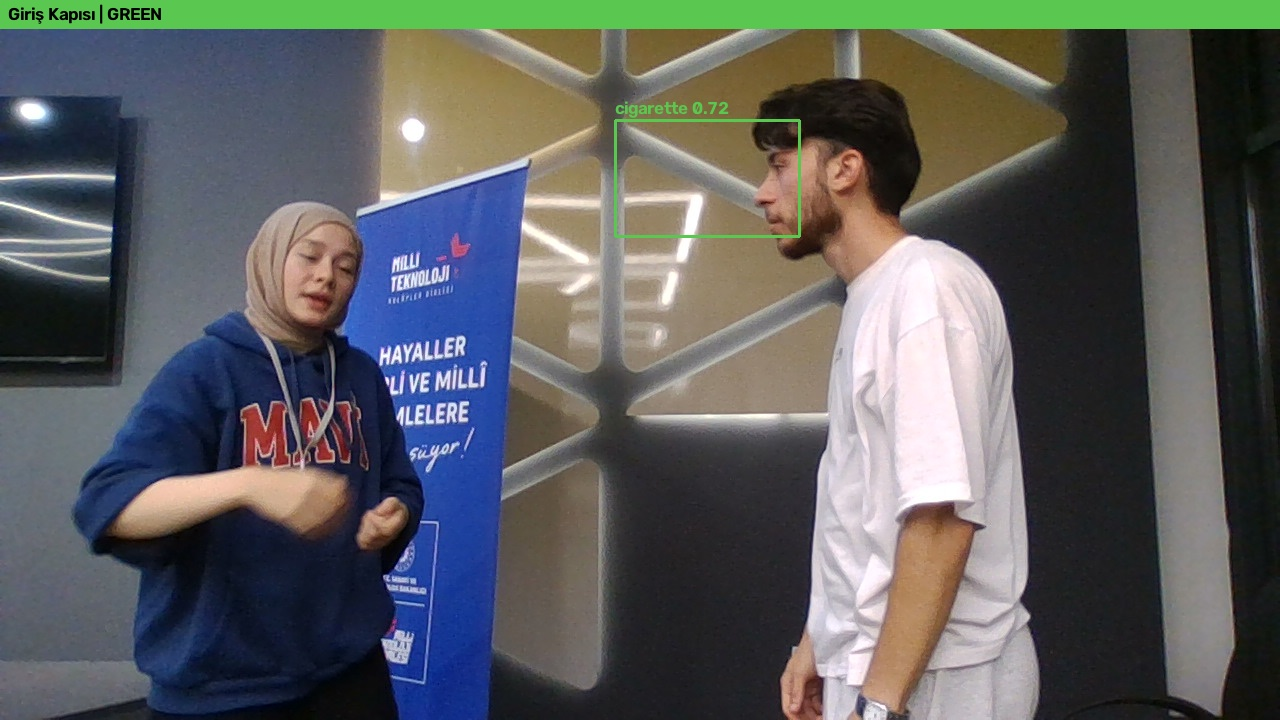weapon: (613, 124, 820, 242)
